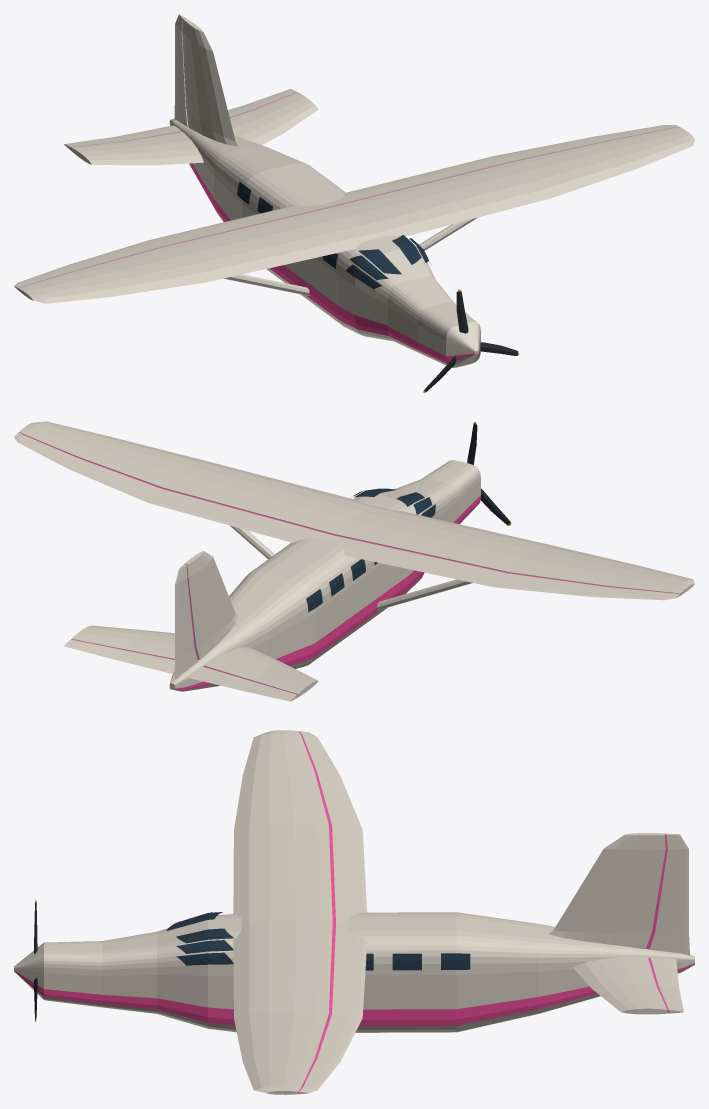
3 views of the same model, one above another, from view 1: azimuth 30°, elevation 25°; view 2: azimuth 150°, elevation 25°; view 3: azimuth 270°, elevation 25° (orthographic). The views are drawn at different scales.
Visible parts, largest first — view 1: wing, airframe, wing_control, tailplane, fin, glazing, tailplane_control, wing_strut, fin_control, prop; view 2: wing, airframe, wing_control, tailplane, fin, tailplane_control, fin_control, glazing, wing_strut, wing_hinge, prop; view 3: airframe, wing, wing_control, fin, tailplane, fin_control, glazing, wing_hinge, tailplane_control.
Part boxes in pixels (<box>): wing: <box>19,127,694,303</box>; airframe: <box>169,118,480,367</box>; wing_control: <box>14,125,679,290</box>; tailplane: <box>71,92,318,165</box>; fin: <box>182,19,237,146</box>; glazing: <box>237,181,431,289</box>; tailplane_control: <box>64,89,296,149</box>; wing_strut: <box>224,217,477,295</box>; fin_control: <box>174,14,188,126</box>; prop: <box>423,289,519,392</box>; wing: <box>19,421,694,594</box>; airframe: <box>169,460,480,691</box>; wing_control: <box>14,432,679,600</box>; tailplane: <box>71,625,318,697</box>; fin: <box>184,551,237,659</box>; tailplane_control: <box>64,639,297,701</box>; fin_control: <box>174,564,197,680</box>; glazing: <box>306,488,435,612</box>; wing_strut: <box>230,525,472,610</box>; wing_hinge: <box>19,432,680,595</box>; prop: <box>467,422,511,525</box>; airframe: <box>14,912,694,1032</box>; wing: <box>233,730,332,1094</box>; wing_control: <box>299,731,367,1094</box>; fin: <box>548,833,665,949</box>; tailplane: <box>573,957,667,1014</box>; fin_control: <box>649,833,689,955</box>; glazing: <box>166,912,470,970</box>; wing_hinge: <box>298,731,335,1093</box>; tailplane_control: <box>650,957,683,1013</box>.
Size of the model in its own units: 9.85 by 2.39 by 7.86.
